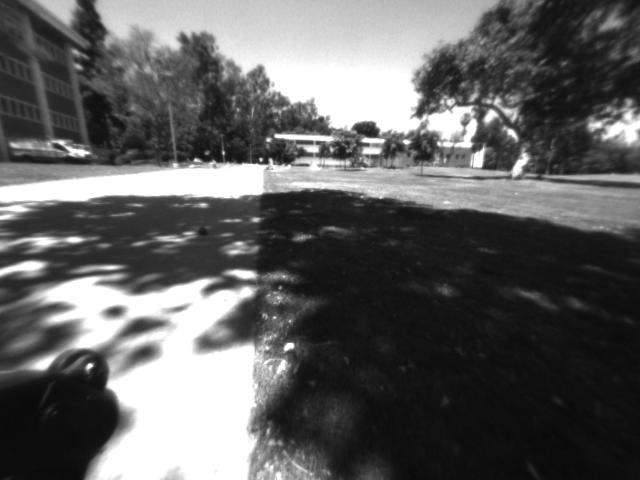dogtoy: (196, 221, 214, 239)
